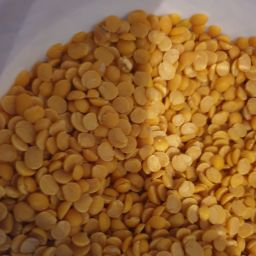Pigeon Pea(toor daal): (11, 9, 256, 256), (64, 21, 237, 256), (31, 95, 256, 181), (37, 85, 146, 256)
